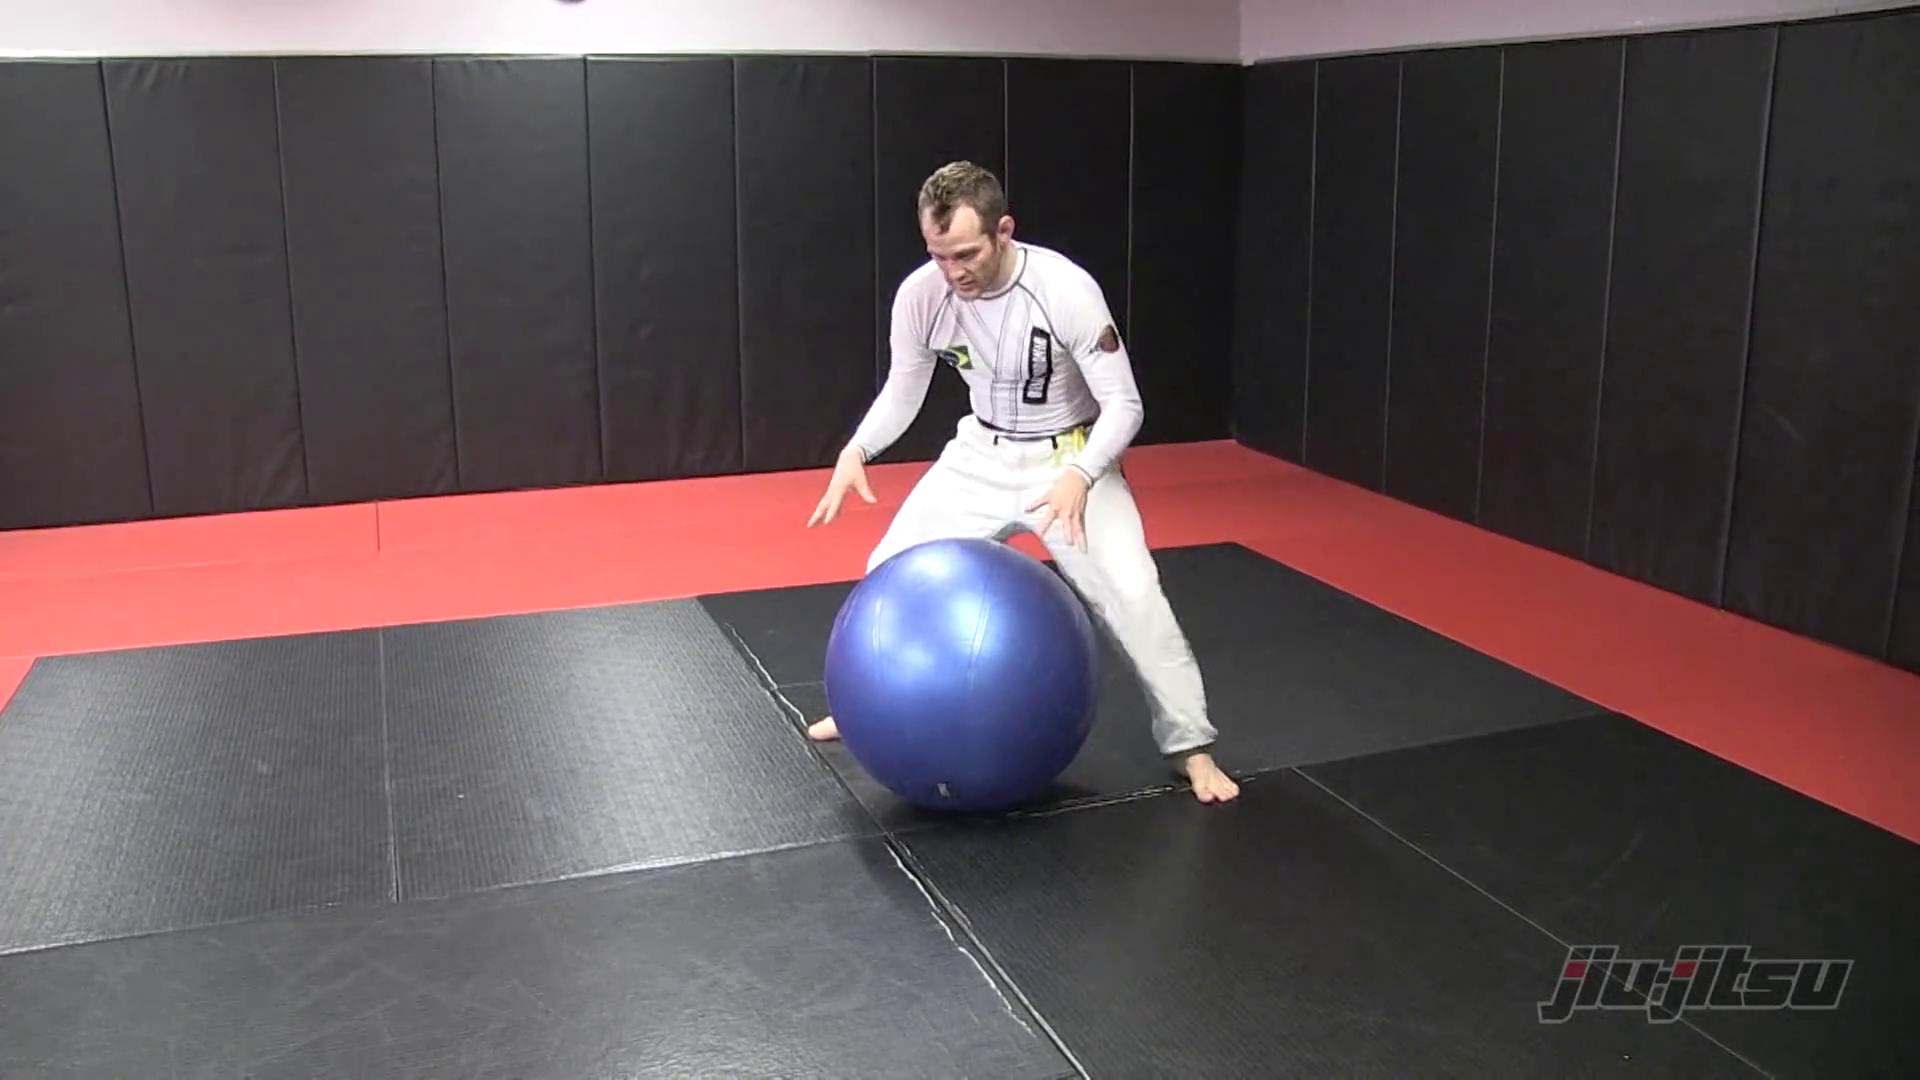yogaball: (803, 527, 1112, 841)
